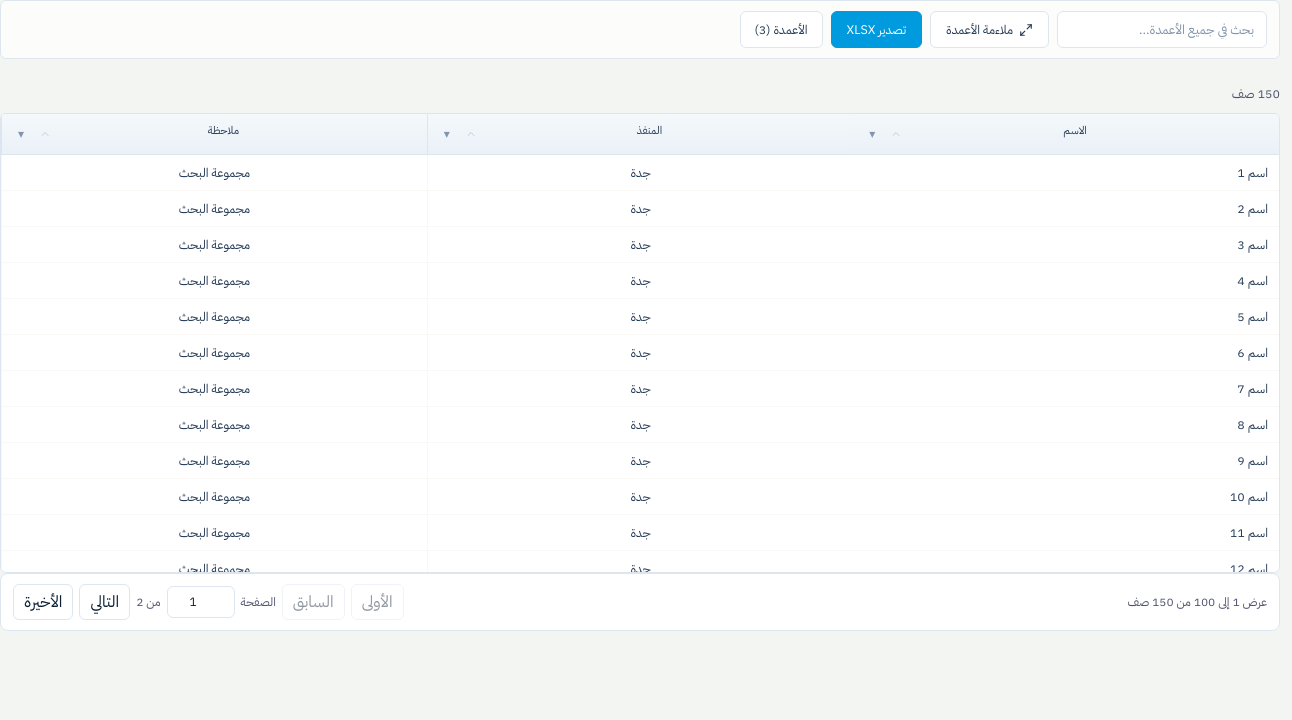
Test case: DataTable — RTL render + interactions (characterization) › resets to page 1 when search changes
Click the button with aria-label "الصفحة التالية" at [105, 602], box [79,584,130,620]
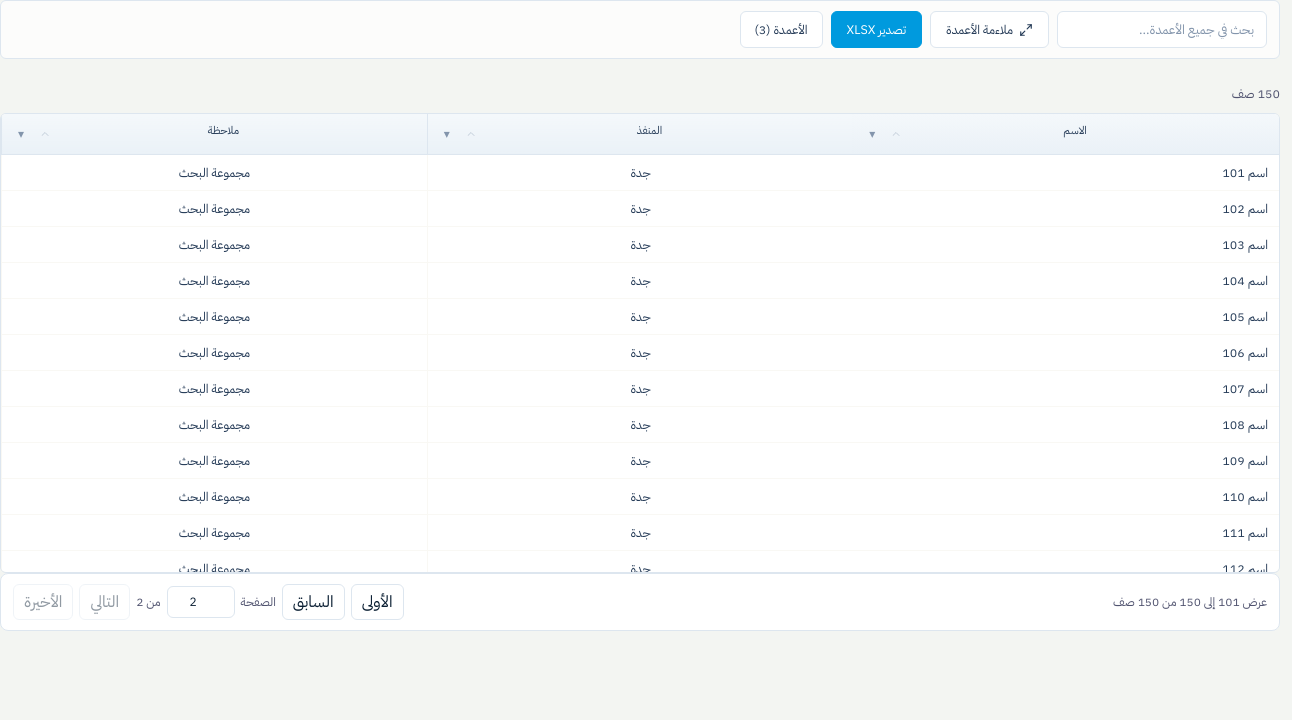
Now the element with class "data-pagination-summary" reads "عرض 101 إلى 150 من 150 صف", box [1113,592,1267,610]
Type "مجموعة البحث" into the field with placeholder "بحث في جميع الأعمدة..." at [1162, 30], box [1057,11,1267,48]
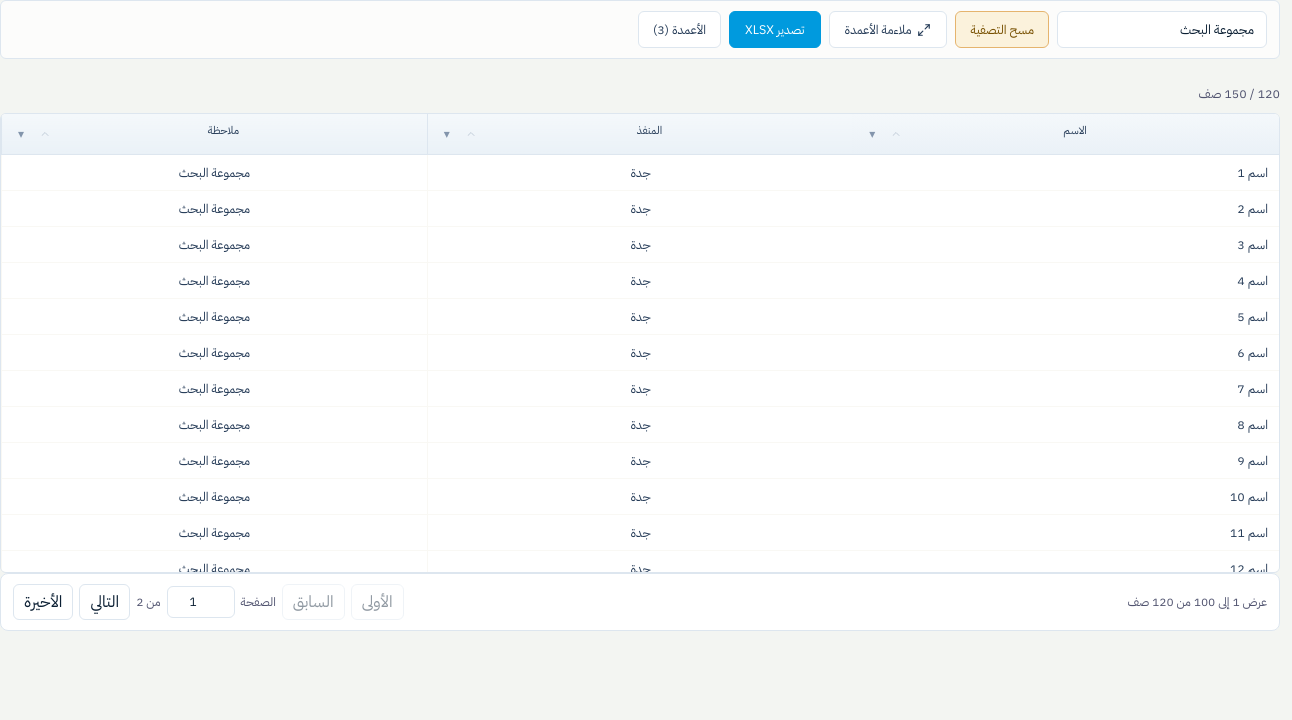
Expected: the text "اسم 1" is shown, [1237,163,1268,182]
Now the element with class "data-pagination-summary" reads "عرض 1 إلى 100 من 120 صف", box [1127,592,1267,610]
